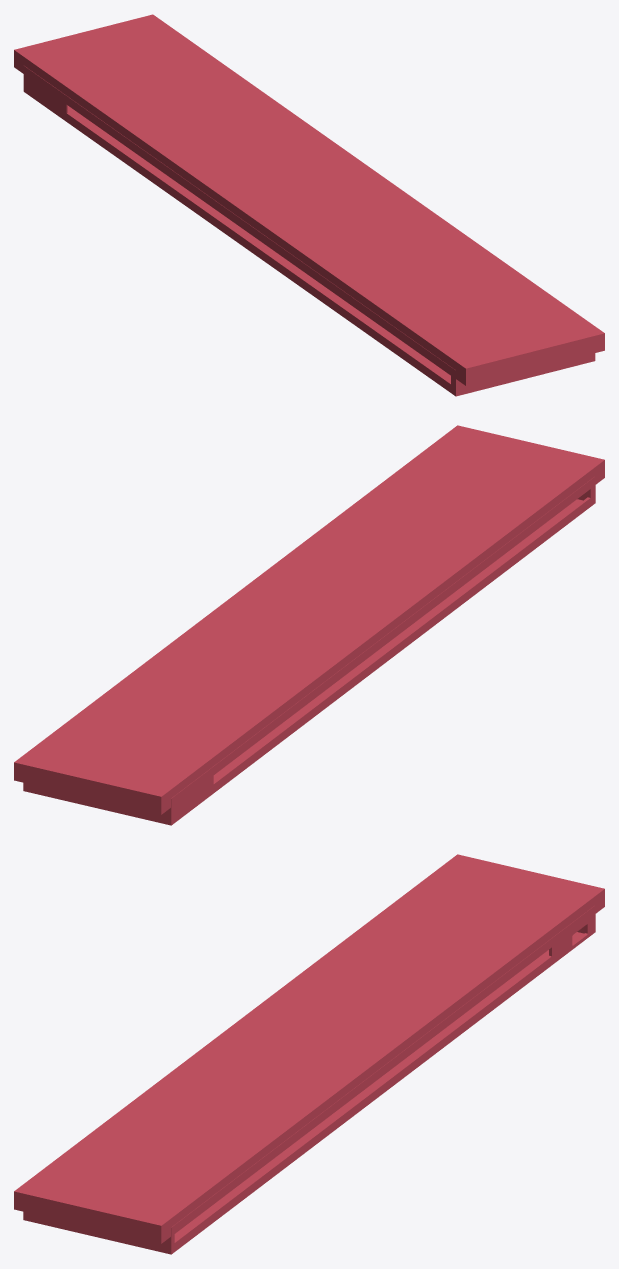
Rendered from Compartment Design #2 - Victor Siooh.glb.
3 renders of one model, top to bottom at view 1: azimuth 30°, elevation 25°; view 2: azimuth 150°, elevation 25°; view 3: azimuth 330°, elevation 25°, orthographic. The views are drawn at different scales.
Parts seen in each view (by area): view 1: Mesh_Mesh_head_geo.001_lambert2SG.001; view 2: Mesh_Mesh_head_geo.001_lambert2SG.001; view 3: Mesh_Mesh_head_geo.001_lambert2SG.001.
Boxes of the visible parts, x1,y1,x2,y2 form: Mesh_Mesh_head_geo.001_lambert2SG.001: (14,14,604,396); Mesh_Mesh_head_geo.001_lambert2SG.001: (14,425,604,825); Mesh_Mesh_head_geo.001_lambert2SG.001: (14,854,604,1254).
Size of the model in its own units: 46 by 10 by 230.
